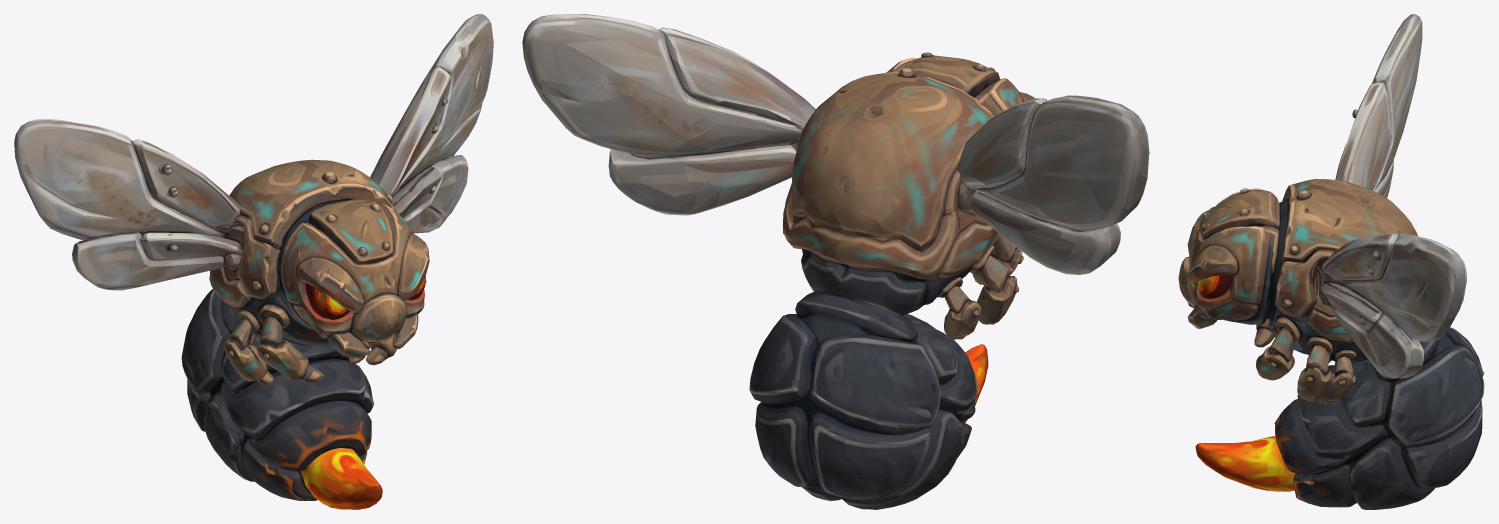
File: 05_sting_wasp.glb
The picture shows the model from 3 angles, left to right: view 1: azimuth 30°, elevation 25°; view 2: azimuth 150°, elevation 25°; view 3: azimuth 270°, elevation 25°; orthographic projection. The views are drawn at different scales.
Parts seen in each view (by area): view 1: output_unwrapped; view 2: output_unwrapped; view 3: output_unwrapped.
Boxes of the visible parts, x1,y1,x2,y2 form: output_unwrapped: [14, 14, 493, 509]; output_unwrapped: [522, 14, 1149, 509]; output_unwrapped: [1178, 14, 1484, 509].
Bounding box in the file's own units: 1.9 × 1.43 × 1.06.
Materials: 1 (1 with a texture image).
